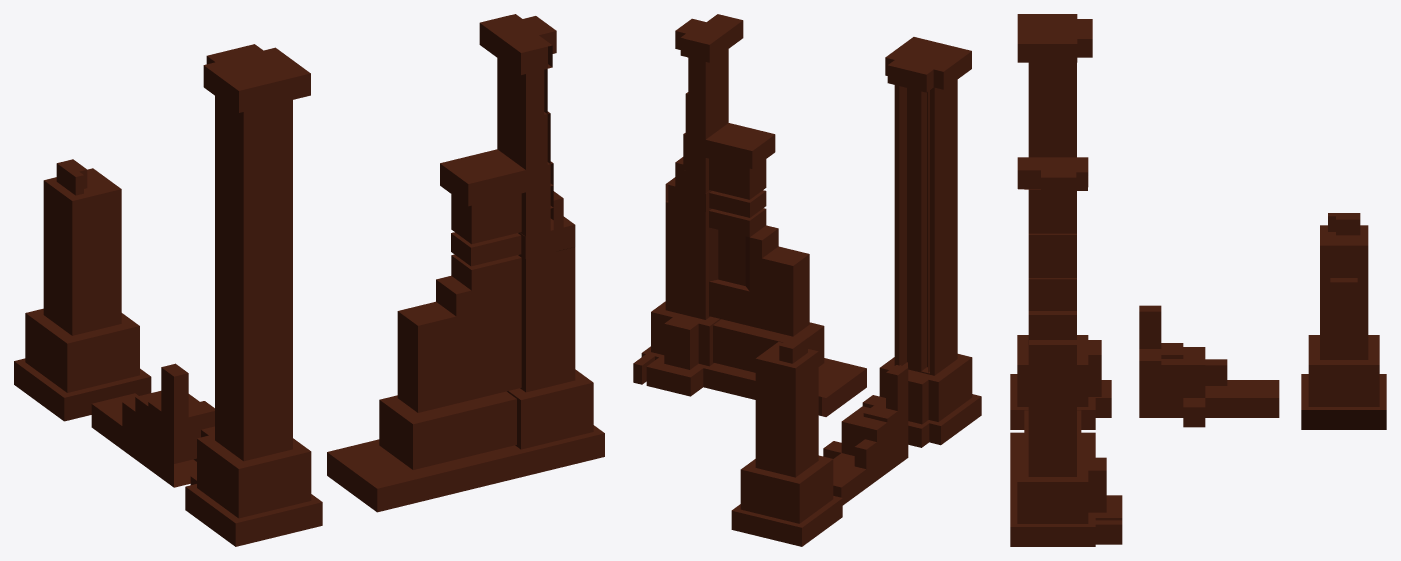
3 renders of one model, left to right at view 1: azimuth 30°, elevation 25°; view 2: azimuth 150°, elevation 25°; view 3: azimuth 270°, elevation 25°, orthographic. The views are drawn at different scales.
Visible parts, largest first — view 1: Ruins; view 2: Ruins; view 3: Ruins.
Part boxes in pixels (<box>): Ruins: <box>14,14,604,546</box>; Ruins: <box>633,14,981,546</box>; Ruins: <box>1010,14,1386,546</box>.
Bounding box in the file's own units: 2.12 × 2.48 × 2.21.
